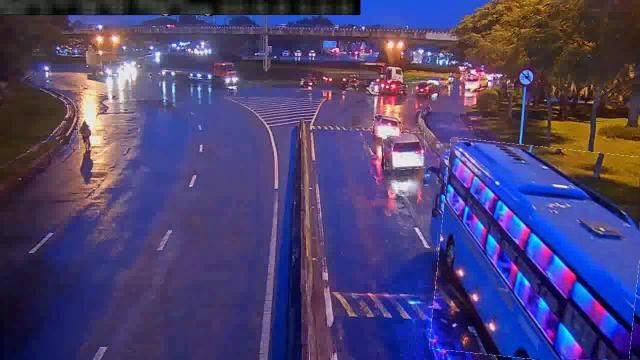Bike: (80, 119, 92, 151)
Bus: (434, 142, 640, 360)
Car: (383, 133, 425, 169), (372, 115, 402, 137), (414, 82, 438, 96), (464, 77, 488, 90)
